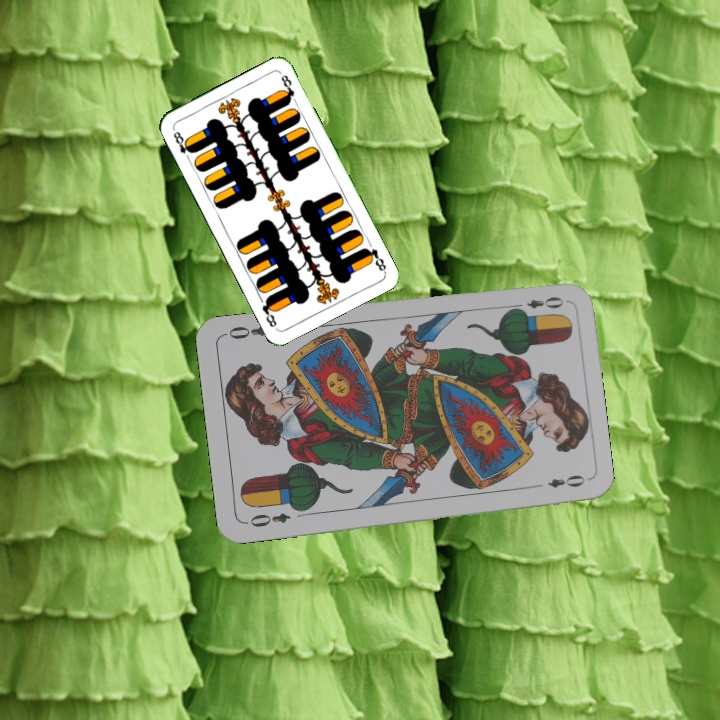E8: (169, 125, 196, 163), (360, 244, 389, 274)
EO: (508, 292, 566, 315), (246, 509, 293, 530)
